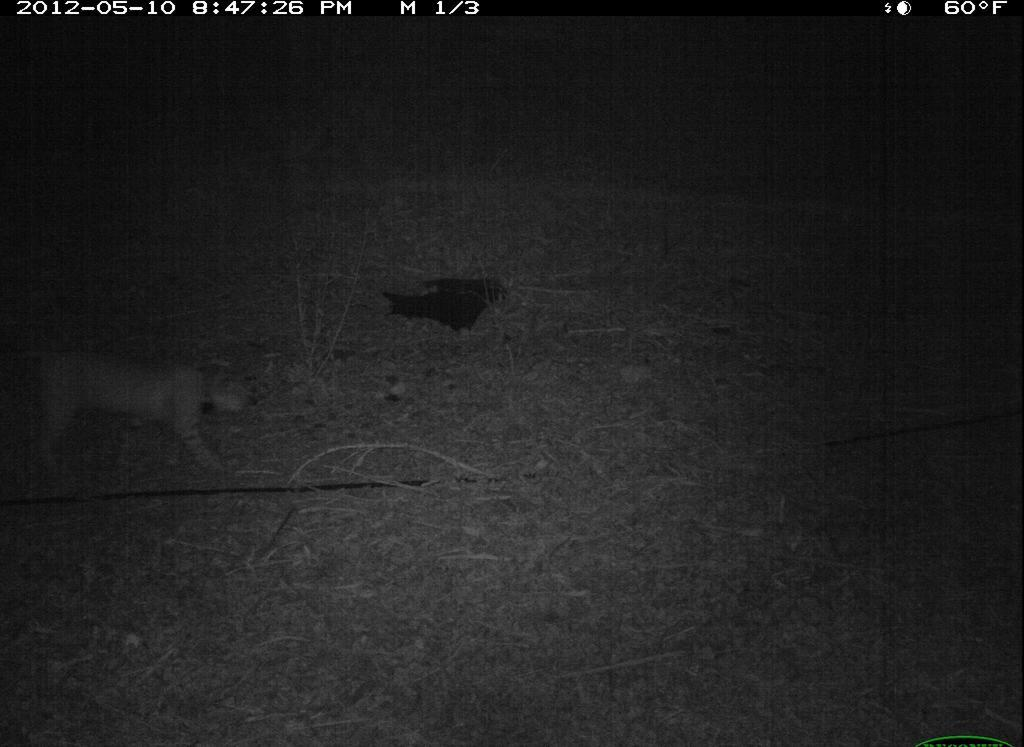bobcat: (8, 335, 277, 495)
